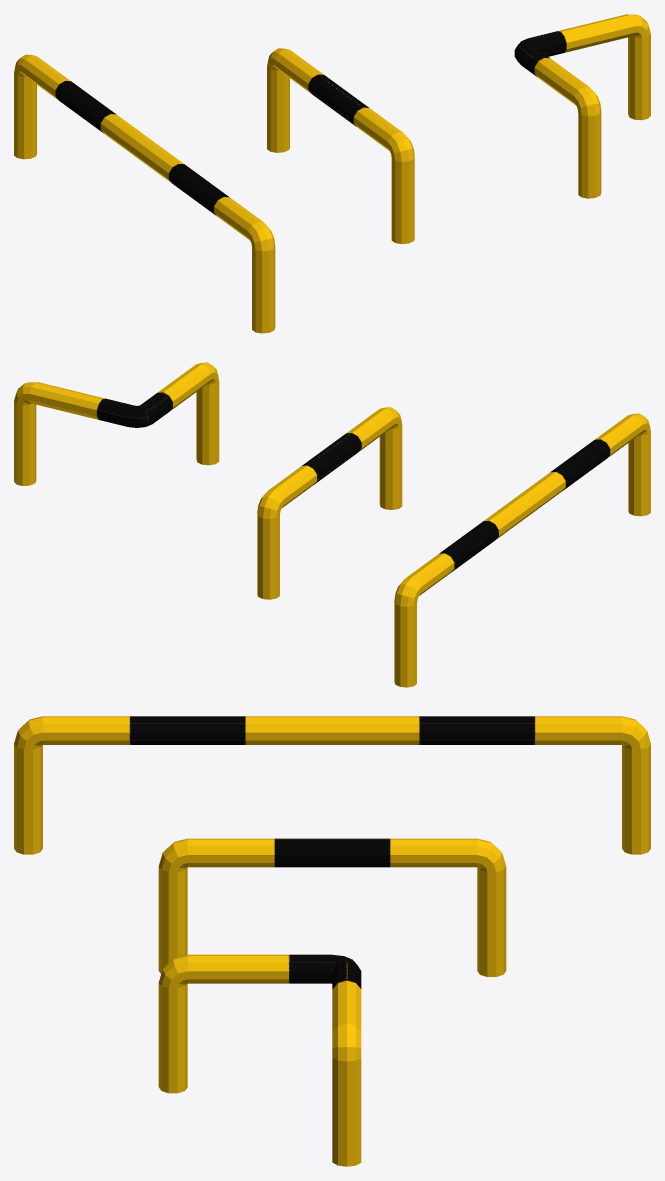
File: Bumpers.fbx
3 renders of one model, top to bottom at view 1: azimuth 30°, elevation 25°; view 2: azimuth 150°, elevation 25°; view 3: azimuth 270°, elevation 25°, orthographic. The views are drawn at different scales.
Visible parts, largest first — view 1: Bumper_2m, Bumper_Corner, Bumper_1m; view 2: Bumper_2m, Bumper_Corner, Bumper_1m; view 3: Bumper_2m, Bumper_1m, Bumper_Corner.
Boxes of the visible parts, <box> form: Bumper_2m: <box>14,54,275,333</box>; Bumper_Corner: <box>514,14,650,198</box>; Bumper_1m: <box>267,48,414,243</box>; Bumper_2m: <box>394,413,650,687</box>; Bumper_Corner: <box>14,362,219,485</box>; Bumper_1m: <box>257,407,402,599</box>; Bumper_2m: <box>14,716,650,854</box>; Bumper_1m: <box>158,838,506,976</box>; Bumper_Corner: <box>158,954,361,1166</box>.
Size of the model in its own units: 265 by 50 by 220.
Materials: 3 (3 with a texture image).
